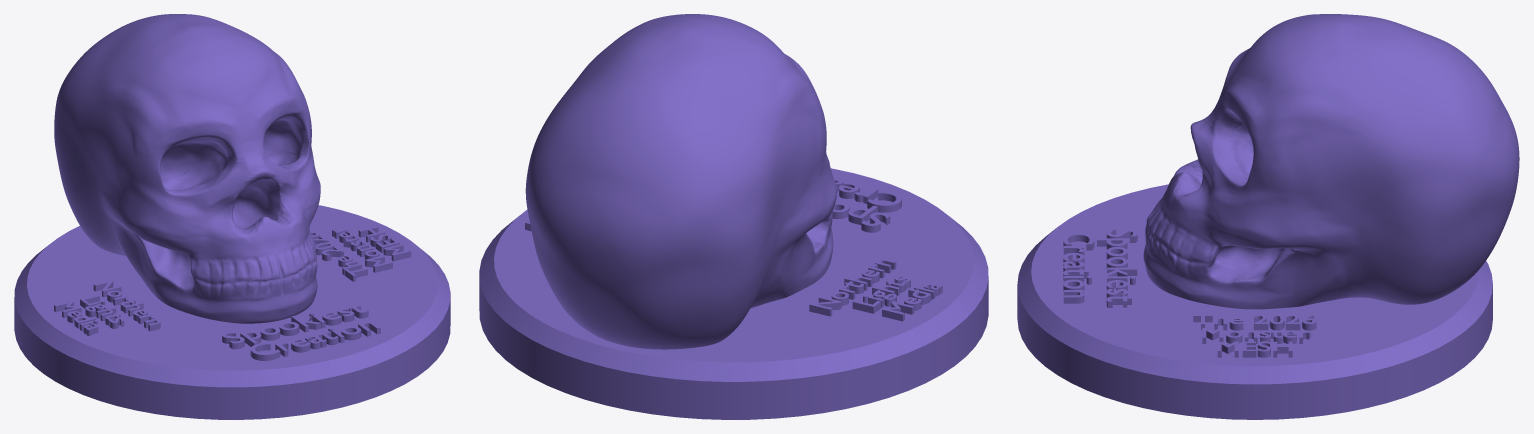
File: spookiest-creation-trophy.glb
3 renders of one model, left to right at view 1: azimuth 30°, elevation 25°; view 2: azimuth 150°, elevation 25°; view 3: azimuth 270°, elevation 25°, orthographic. The views are drawn at different scales.
Parts seen in each view (by area): view 1: NLM_MonsterMESH_Trophies; view 2: NLM_MonsterMESH_Trophies; view 3: NLM_MonsterMESH_Trophies.
Part boxes in pixels (x1,y1,x2,y2): NLM_MonsterMESH_Trophies: (14, 14, 450, 419); NLM_MonsterMESH_Trophies: (479, 14, 988, 419); NLM_MonsterMESH_Trophies: (1017, 14, 1519, 419).
Size of the model in its own units: 0.09 by 0.0619 by 0.095.
